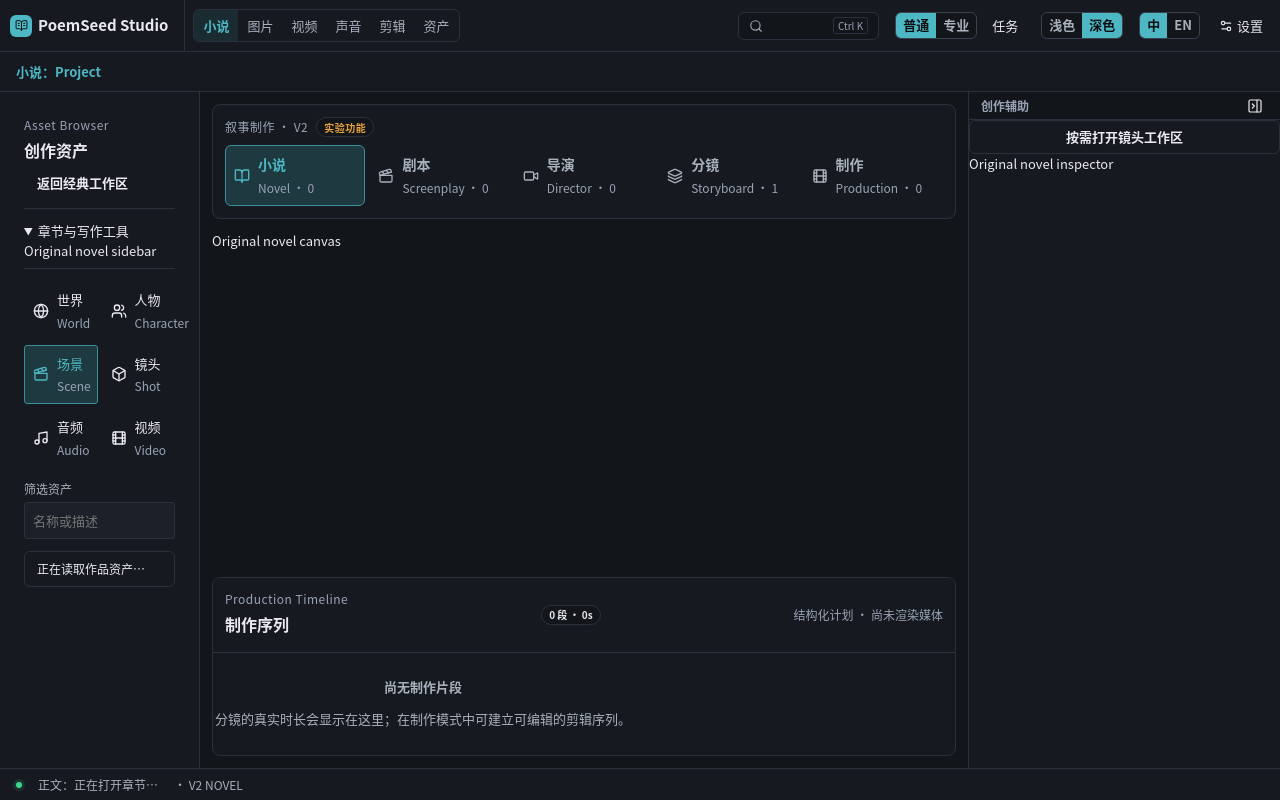
Creative current document save-state ownership › retains the original common connection and Tutor content while isolating the manuscript status
The width and height of the screenshot is (1280, 800).
Click the tab "分镜 Storyboard · 1" at (728, 176), box left=658, top=145, right=799, bottom=206
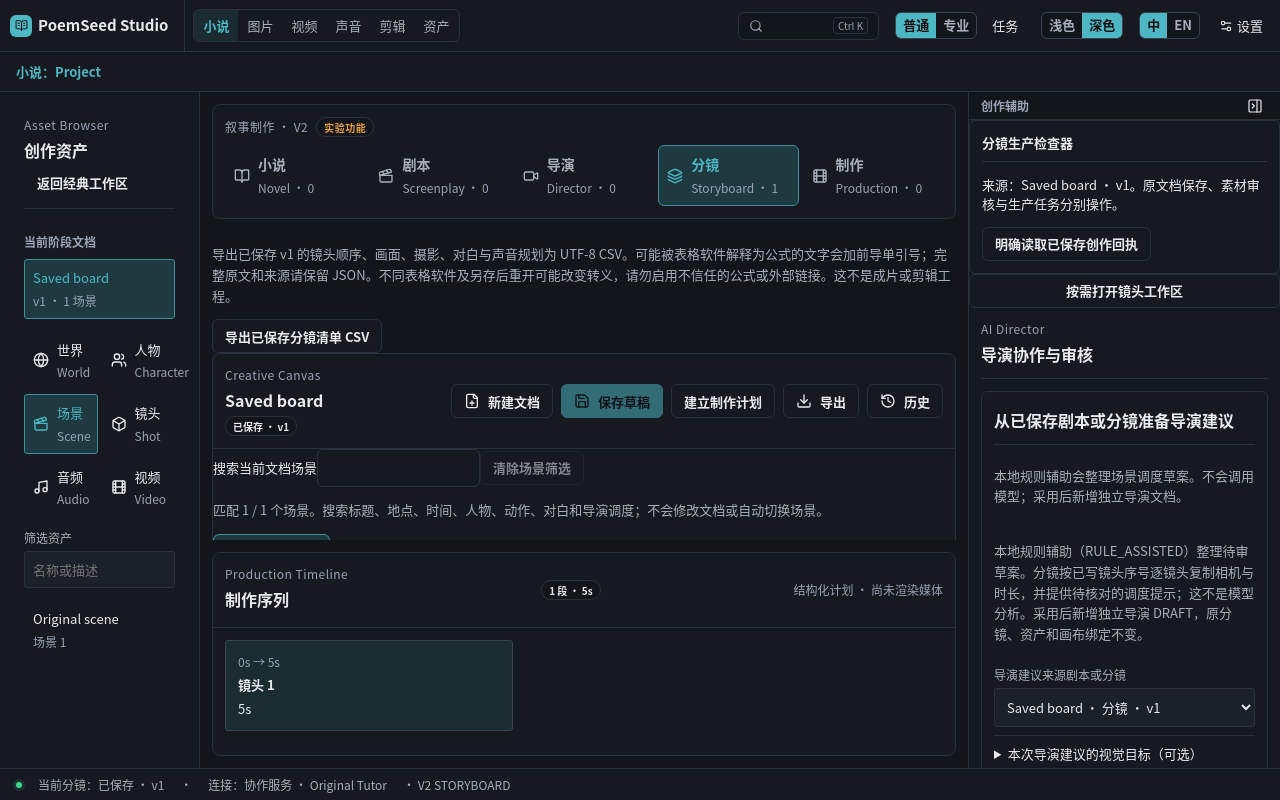
Expected: the footer with class "status-bar" shows "连接：协作服务 · Original Tutor", left=208, top=776, right=387, bottom=792
Expected: the text with class "status-bar" no longer shows "正文：正在打开章节…"
Click the tab "小说 Novel · 0" at (295, 176), box left=225, top=145, right=365, bottom=206
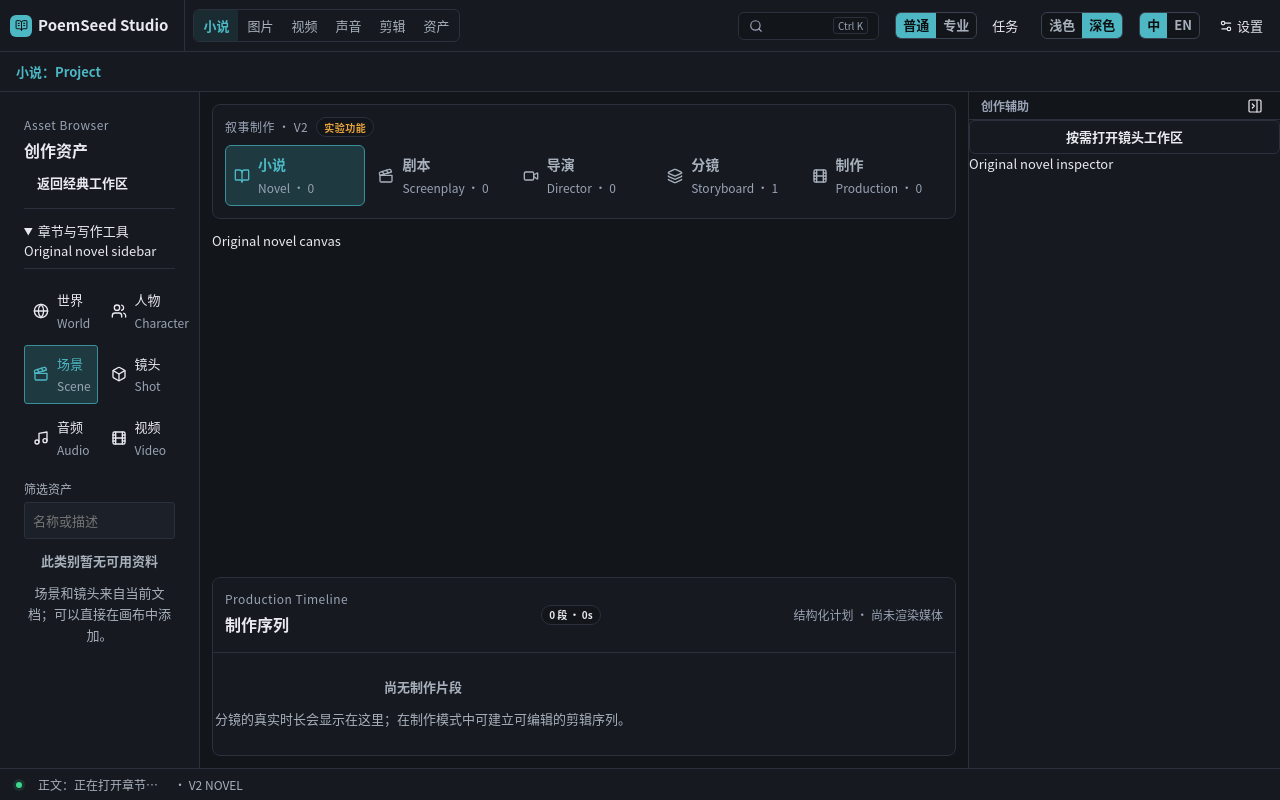
Expected: the footer with class "status-bar" shows "正文：正在打开章节…", left=38, top=776, right=158, bottom=792
Expected: the message "当前创作文档保存状态" is gone
